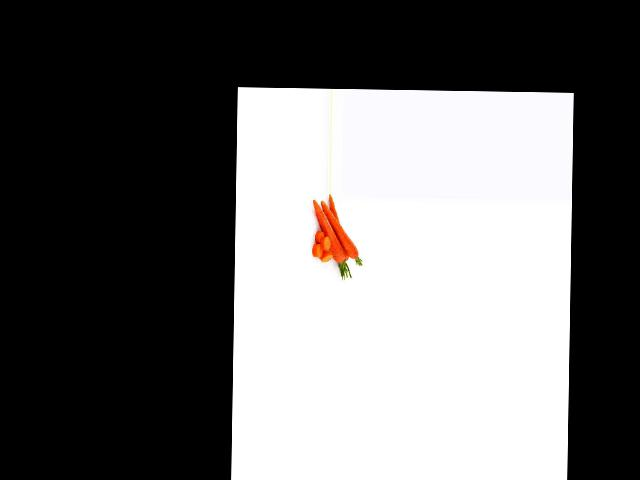carrot: (311, 198, 347, 268)
